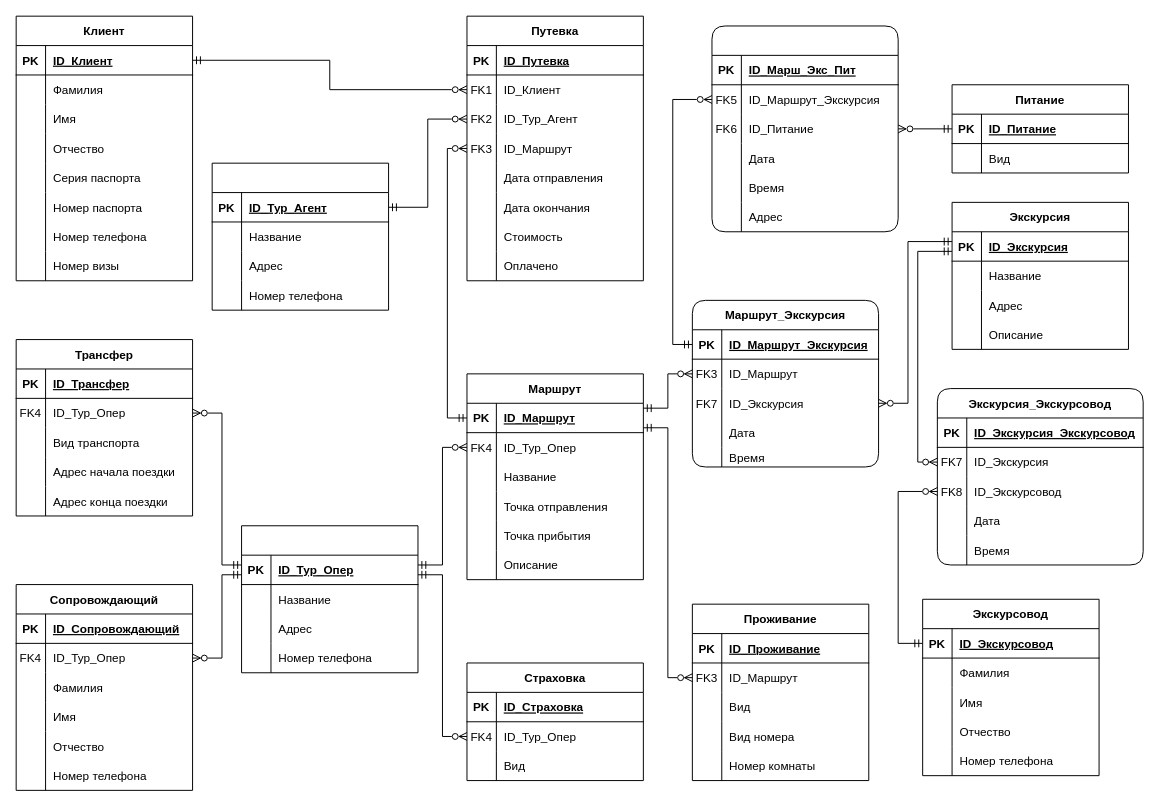
Some shapes in this 1159 by 807 pixel diagram are drawn without their labels. The box of each missing label's shape, as (x1, y1, x2, y2) in pixels:
Маршрут_Экскурсия_Питание: (711, 25, 898, 232)
Туристический оператор: (241, 525, 418, 673)
Туристическое агентство: (211, 162, 389, 310)
